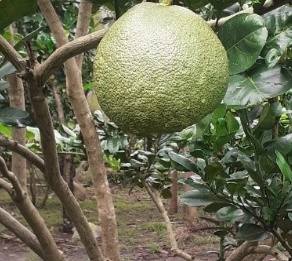Buoi: (93, 1, 233, 139)
